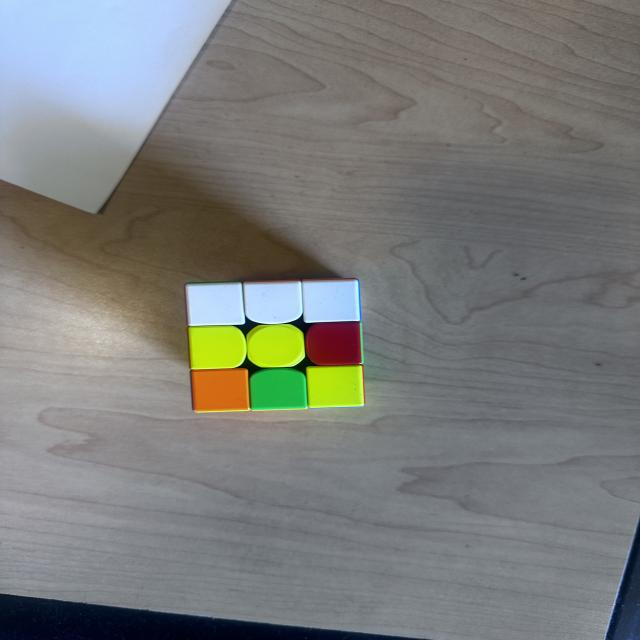sticker: (183, 281, 248, 328), (303, 320, 365, 368), (190, 367, 253, 413), (242, 280, 305, 326), (300, 278, 362, 324), (248, 367, 310, 412), (188, 325, 248, 371), (246, 323, 306, 369), (306, 365, 366, 409)
